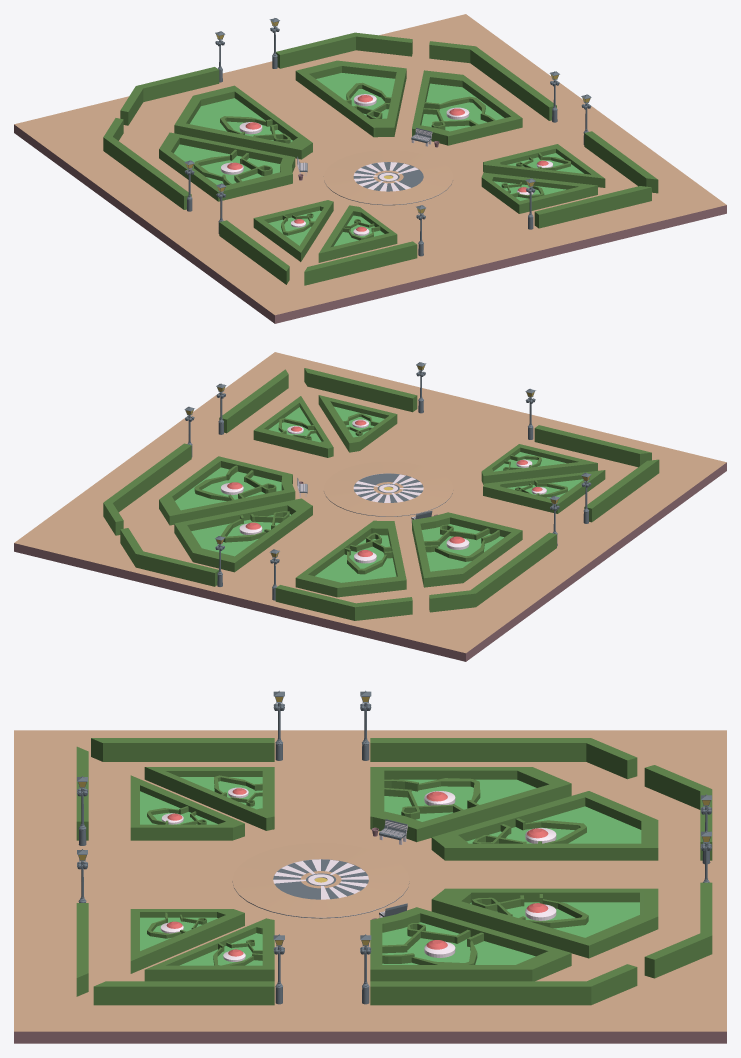
Rendered from square.fbx.
3 views of the same model, one above another, from view 1: azimuth 30°, elevation 25°; view 2: azimuth 150°, elevation 25°; view 3: azimuth 270°, elevation 25° (orthographic). The views are drawn at different scales.
Visible parts, largest first — view 1: Cube.002; view 2: Cube.002; view 3: Cube.002.
Boxes of the visible parts, bbox=[...] form: Cube.002: bbox=[14, 14, 726, 323]; Cube.002: bbox=[14, 352, 726, 661]; Cube.002: bbox=[14, 690, 726, 1043].
Size of the model in its own units: 1486 by 185 by 1486.
